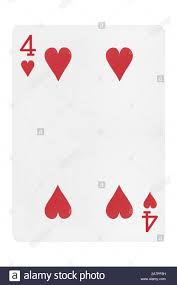four of hearts: (12, 23, 166, 243)
